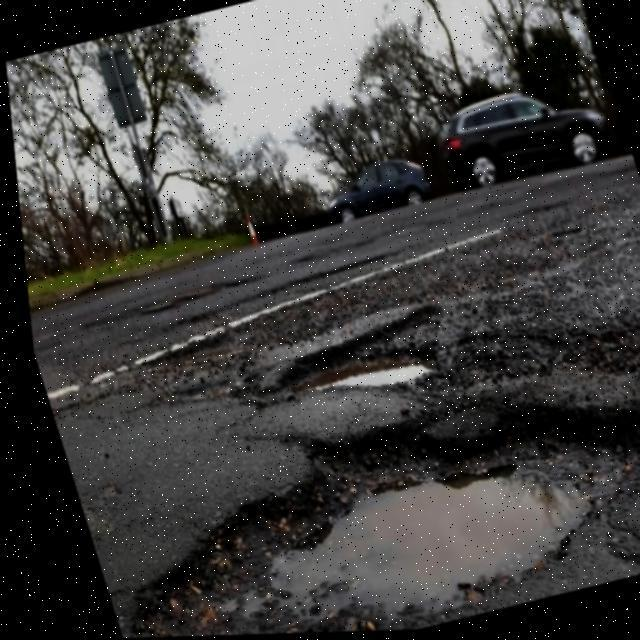pothole: (72, 363, 640, 639), (245, 308, 450, 435), (635, 309, 640, 423)
